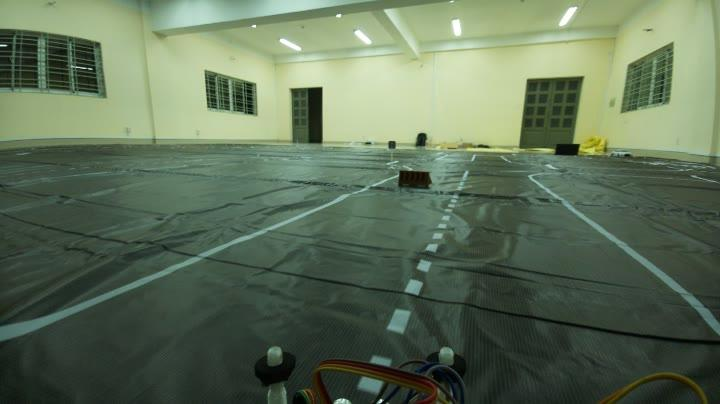roadblock: (395, 165, 437, 194)
